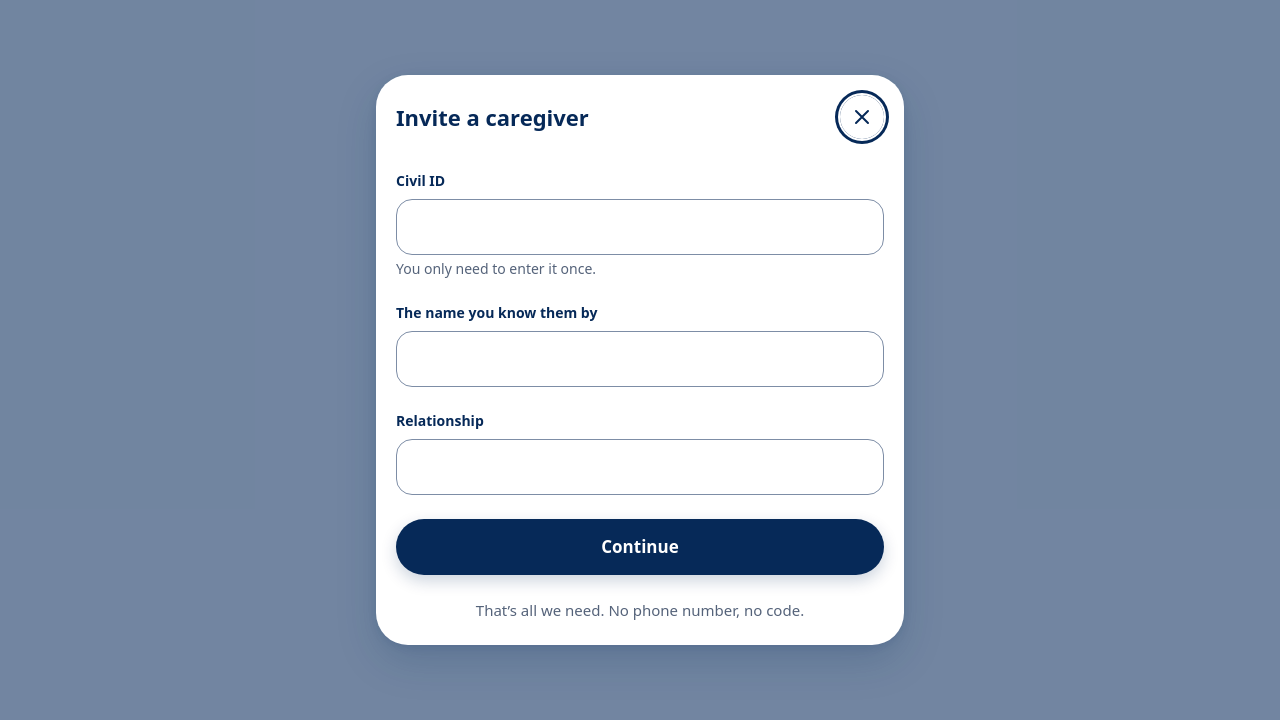
Test: F1 invite form — a real form with a message per empty field › en: the masked name keeps its shape in English and shows no Arabic script
The image size is (1280, 720).
Type "288110300229" into the field labelled "Civil ID". click: (640, 227)
box: 396,199 -> 884,255
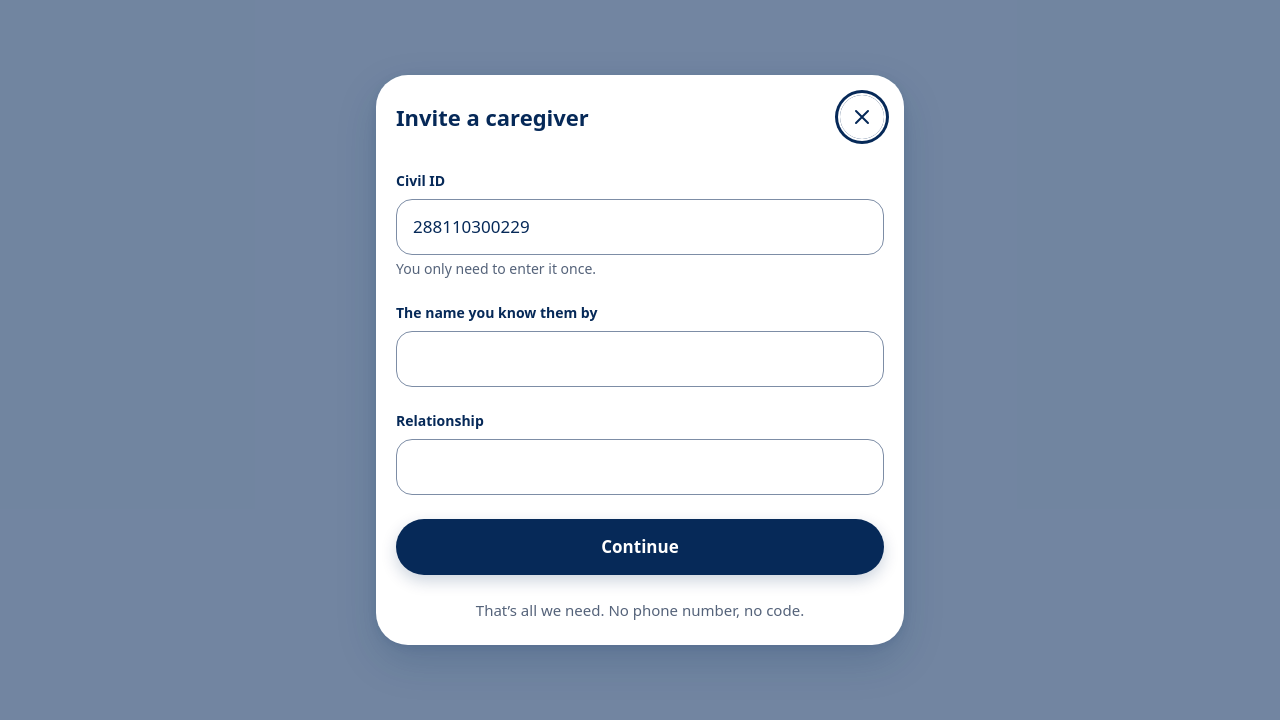
Type "Nasser" into the field labelled "The name you know them by". click: (640, 359)
box: 396,331 -> 884,387
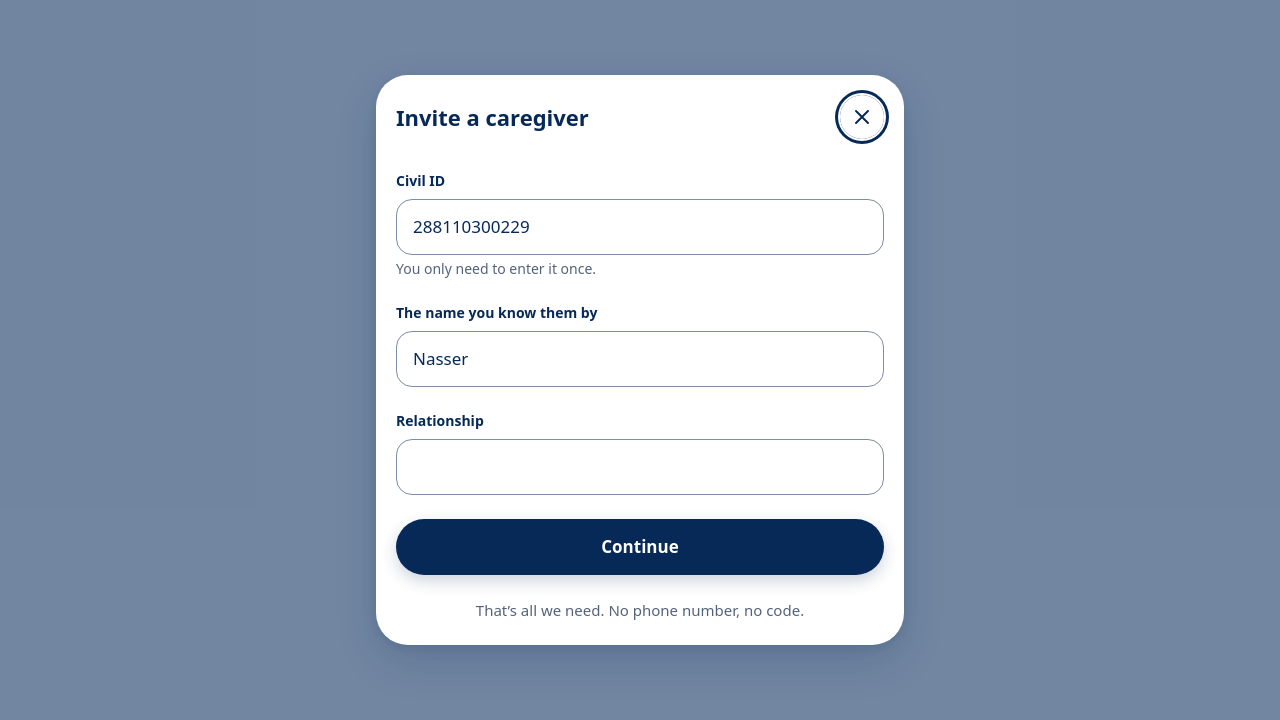
Type "my son" into the field labelled "Relationship". click: (640, 467)
box: 396,439 -> 884,495
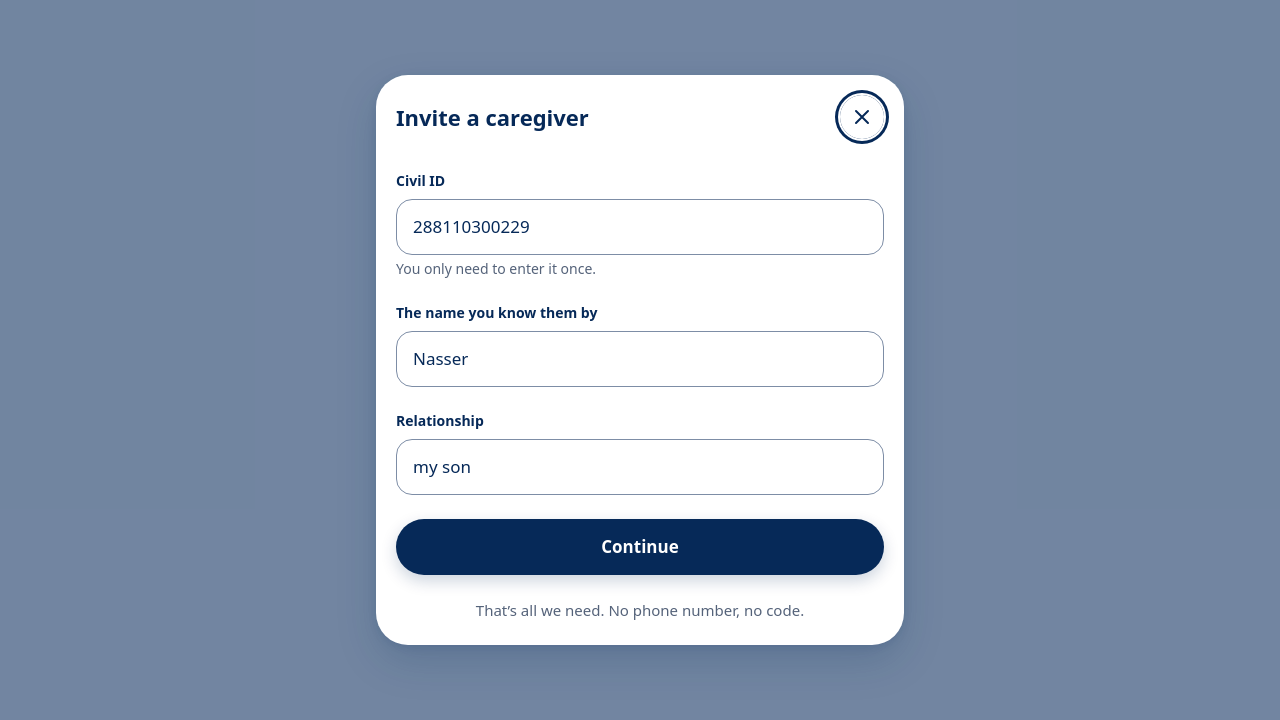
Click the button "Continue". click: (640, 547)
box: 396,519 -> 884,575
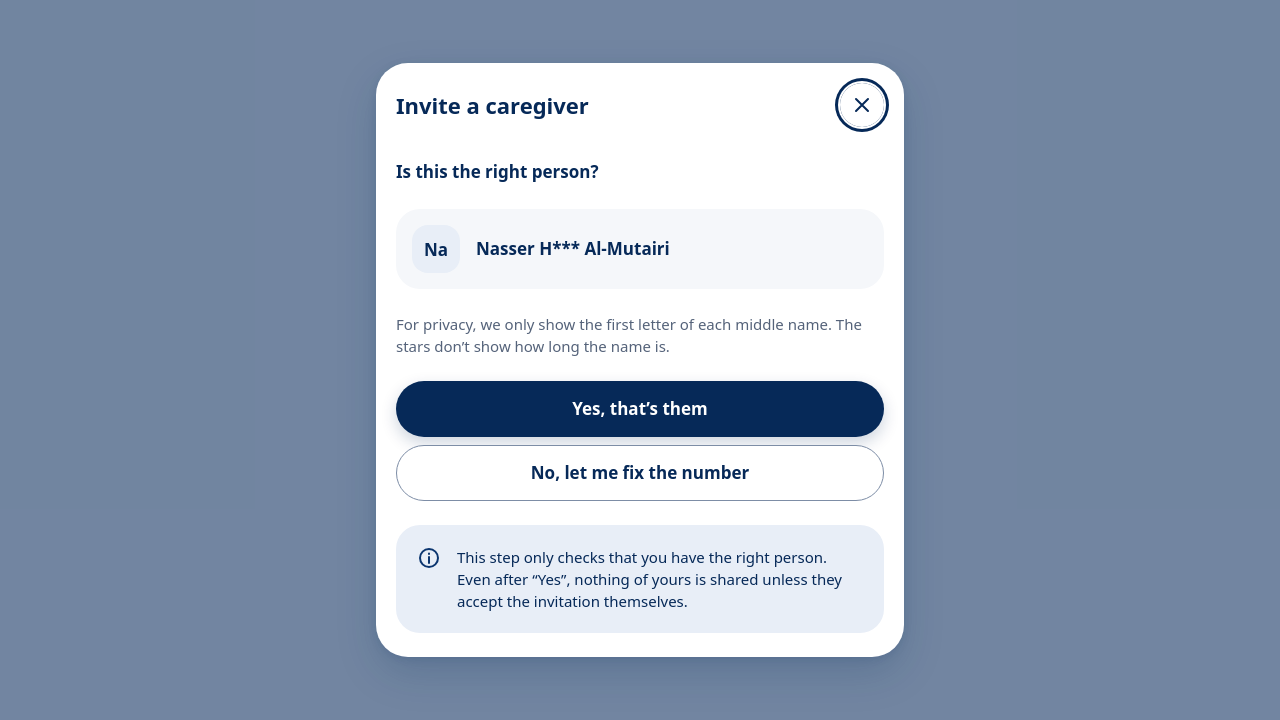
Now the text "Is this the right person?" is shown, box 396,160 -> 598,183
Now the dialog with class "wsf-sheet" shows "H***", box 376,63 -> 904,657
